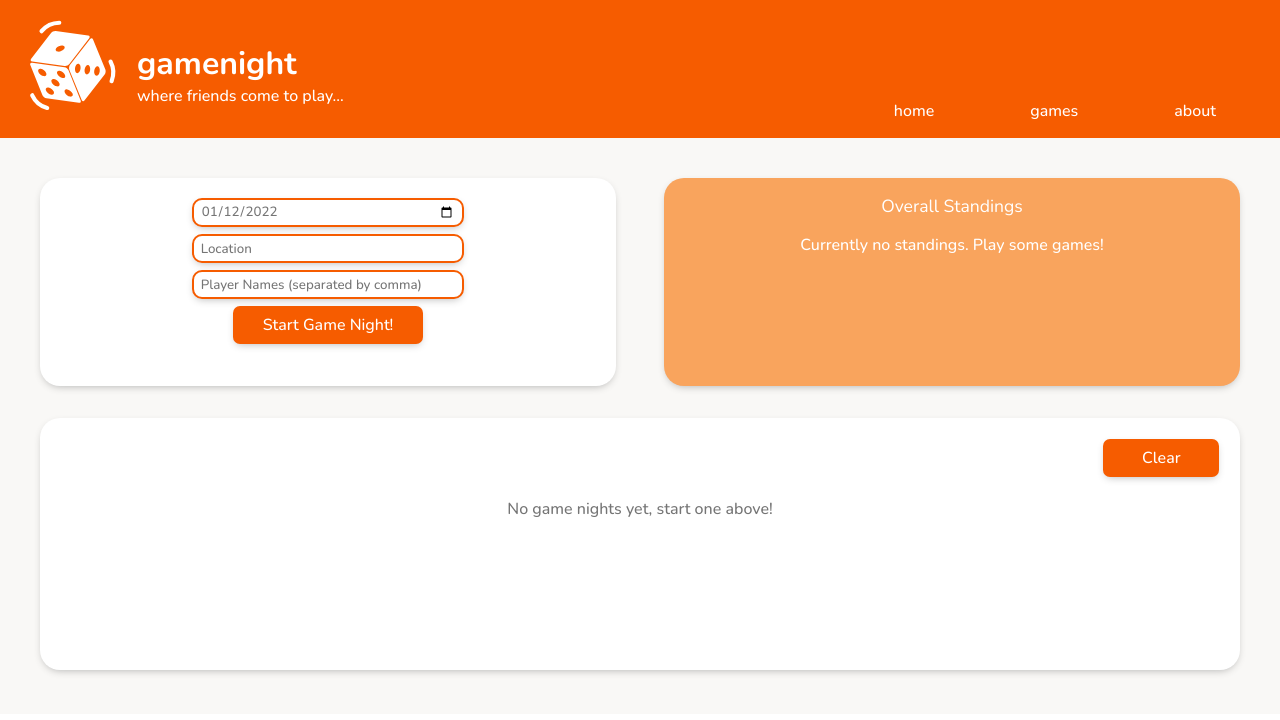
Test case: main page › When incomplete data is put into the game winner form, an error message appears
Type "Coffee Shop" into the field named "location" at x=328, y=249, box top-left (192, 234), bottom-right (464, 263)
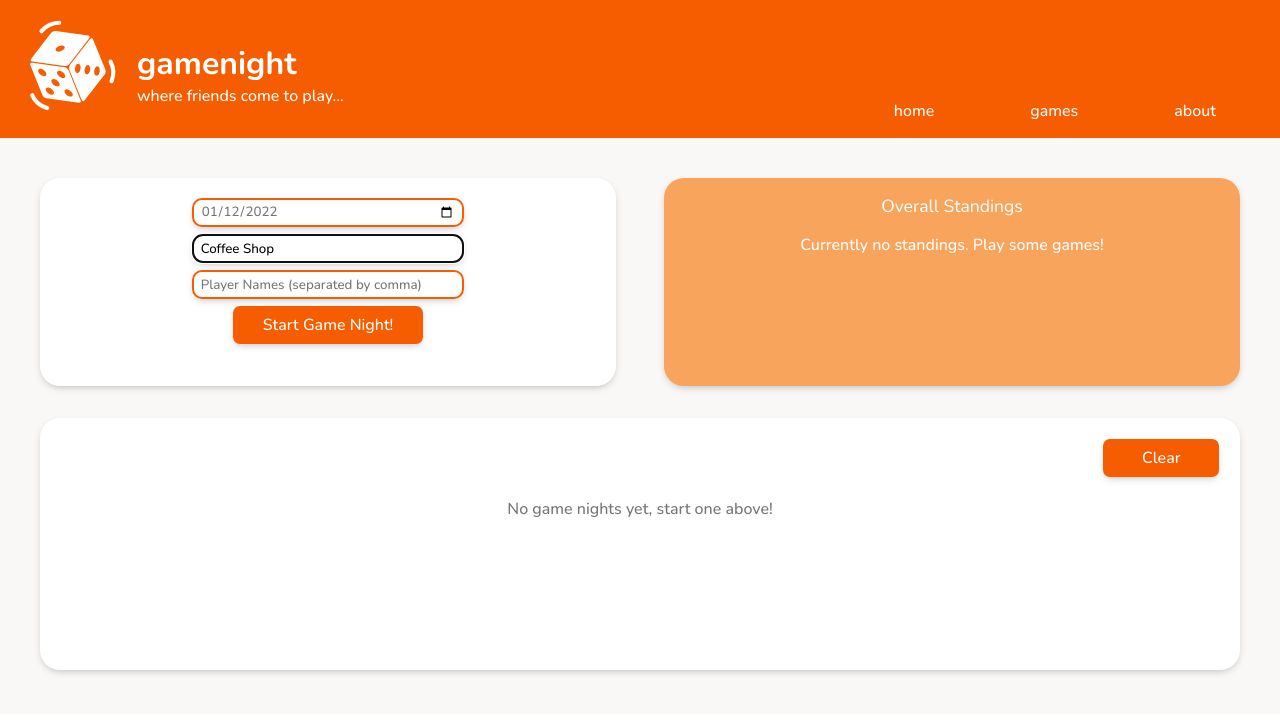
Type "Adam, Kyra, Carl" into the field named "players" at x=328, y=285, box top-left (192, 270), bottom-right (464, 299)
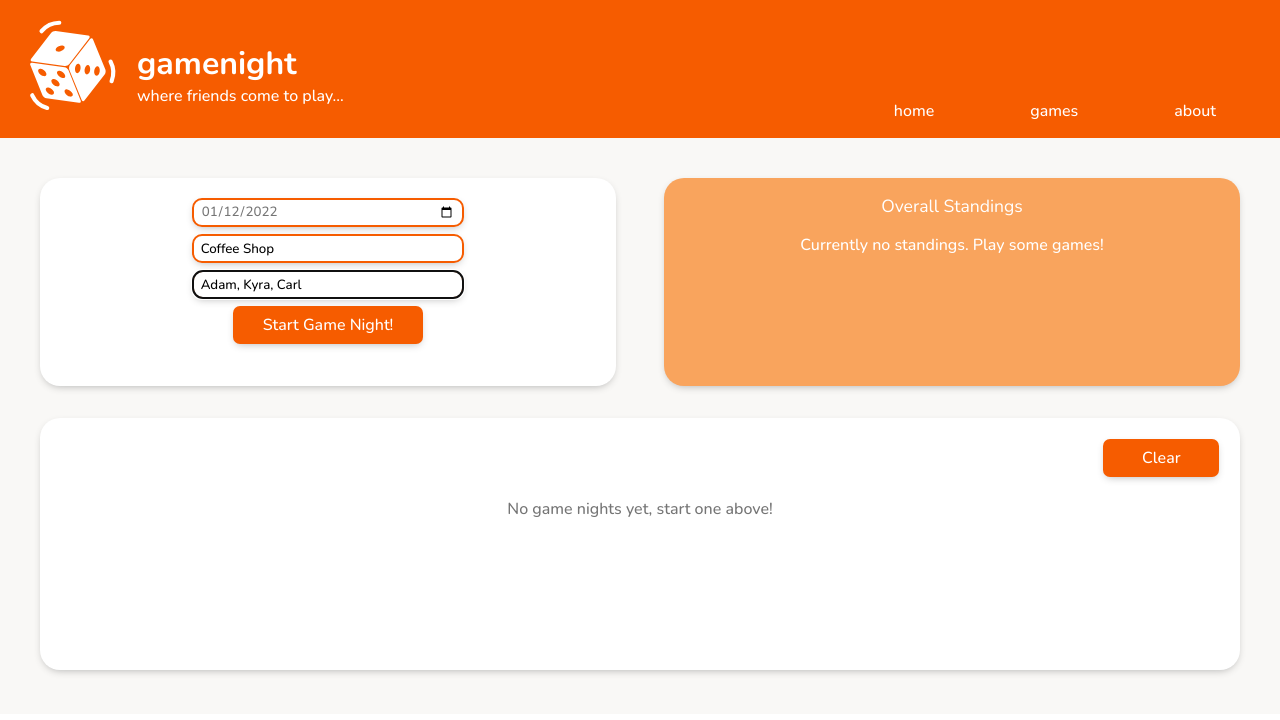
Click the button "Start Game Night!" at x=328, y=326, box top-left (233, 307), bottom-right (423, 345)
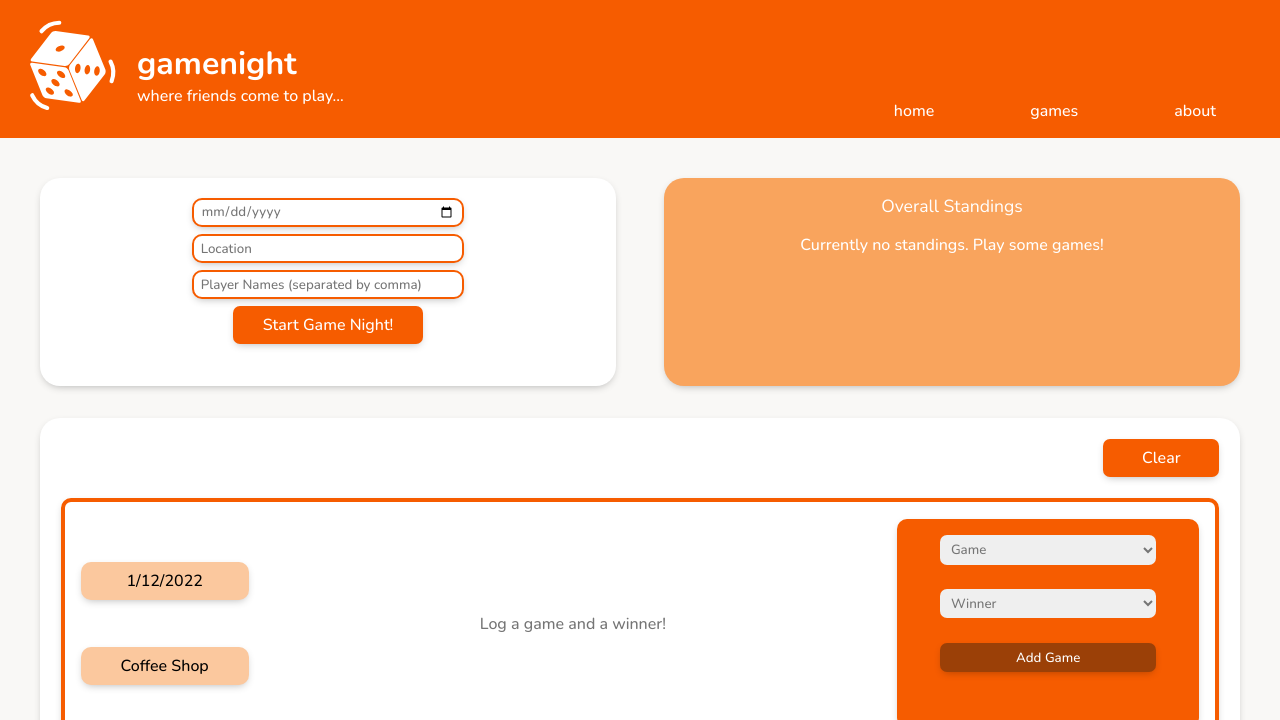
Select "Gloomhaven" in the 1st dropdown named "game" at x=1048, y=550, box top-left (940, 535), bottom-right (1156, 564)
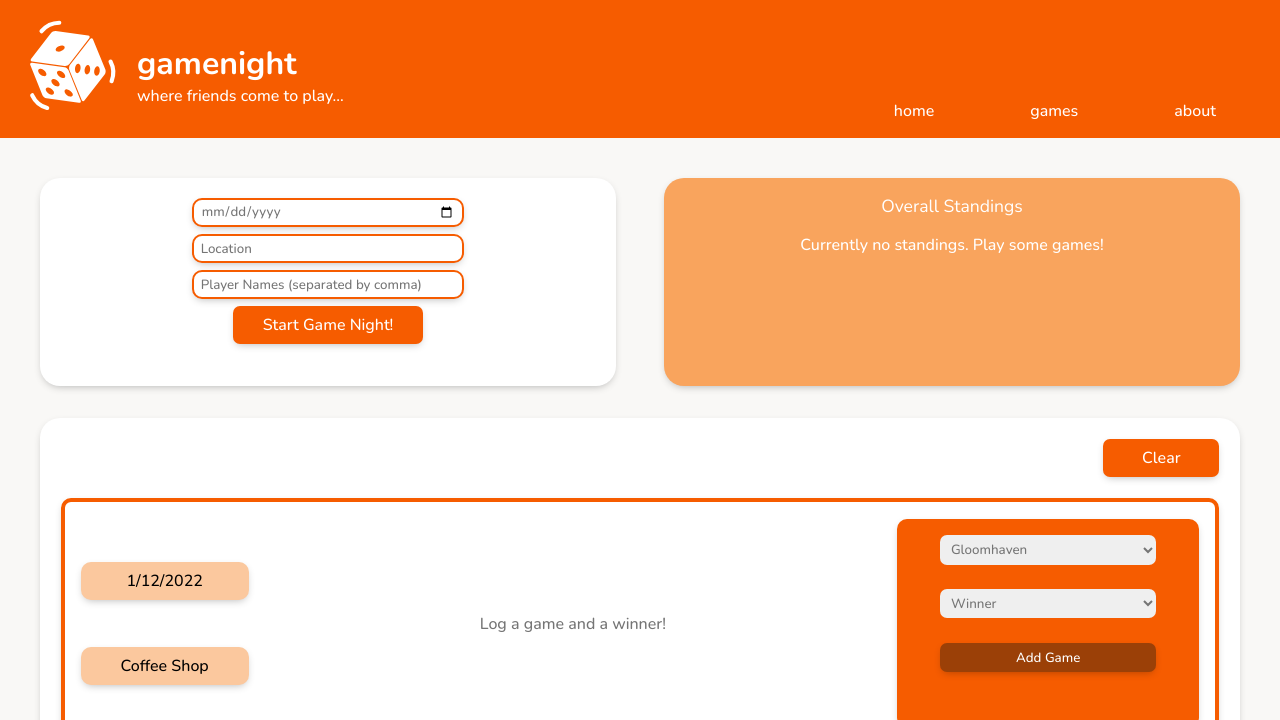
Click the button "Add Game" at x=1048, y=658, box top-left (940, 643), bottom-right (1156, 672)
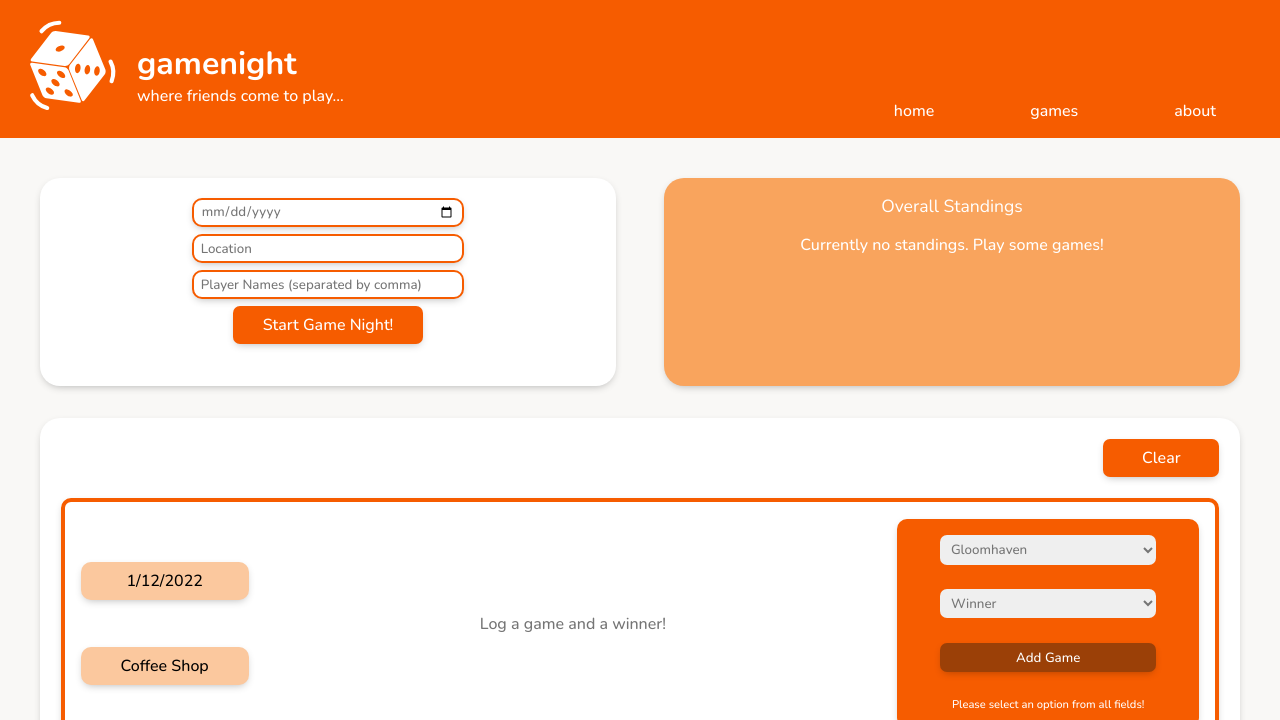
Expected: the text "Please select an option from all fields!" is shown, top-left (952, 697), bottom-right (1144, 712)
